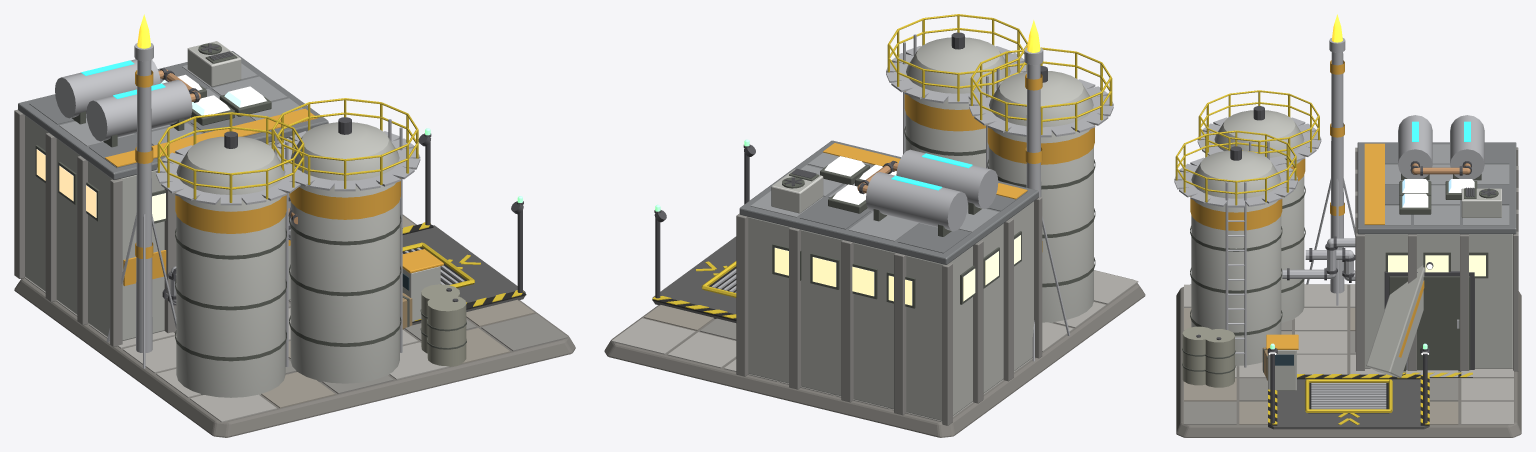
File: refinery_orange.glb
3 renders of one model, left to right at view 1: azimuth 30°, elevation 25°; view 2: azimuth 150°, elevation 25°; view 3: azimuth 270°, elevation 25°, orthographic. The views are drawn at different scales.
Parts seen in each view (by area): view 1: Body; view 2: Body; view 3: Body.
Boxes of the visible parts, x1=… form: Body: x1=14, y1=14, x2=575, y2=437; Body: x1=604, y1=14, x2=1145, y2=437; Body: x1=1174, y1=14, x2=1521, y2=437.
Bounding box in the file's own units: 6.06 × 5.5 × 6.01.
1 material, 1 textured.
